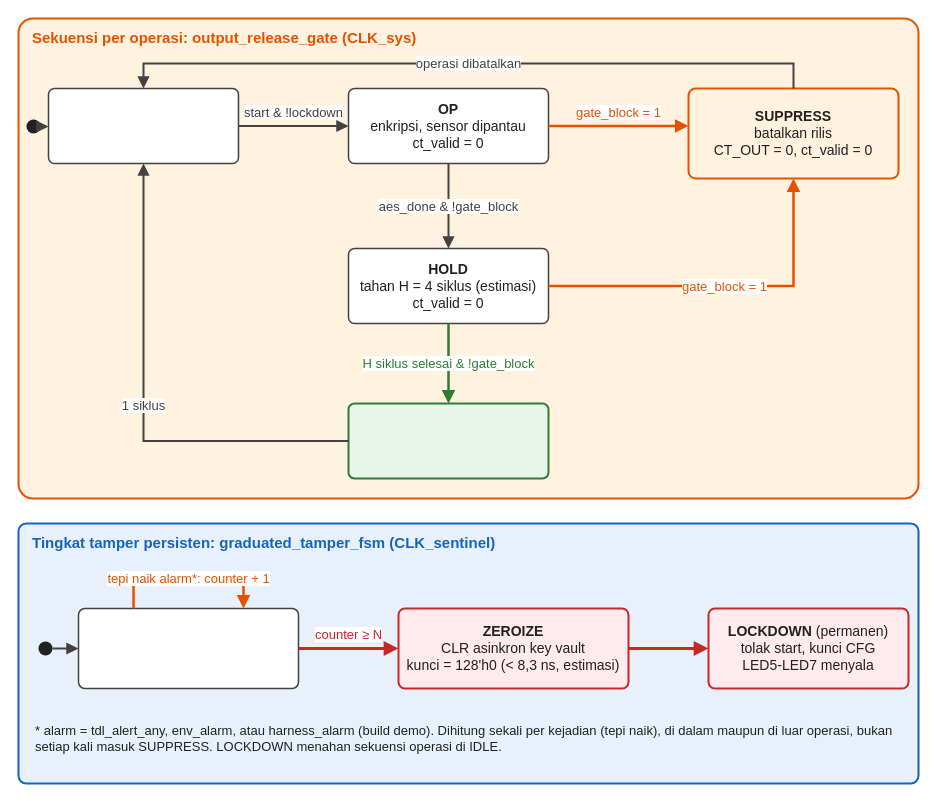
Some shapes in this 936 by 801 pixel diagram are drawn without their labels. The shapes that lost their labels are listed below. From the top down, each one's centre as x and y in pixels, then its label:
At point (143, 125): "IDLE ct_valid = 0".
At point (448, 440): "RELEASE ct_valid = 1 (1 siklus)".
At point (188, 648): "AMAN tamper_counter < N".
